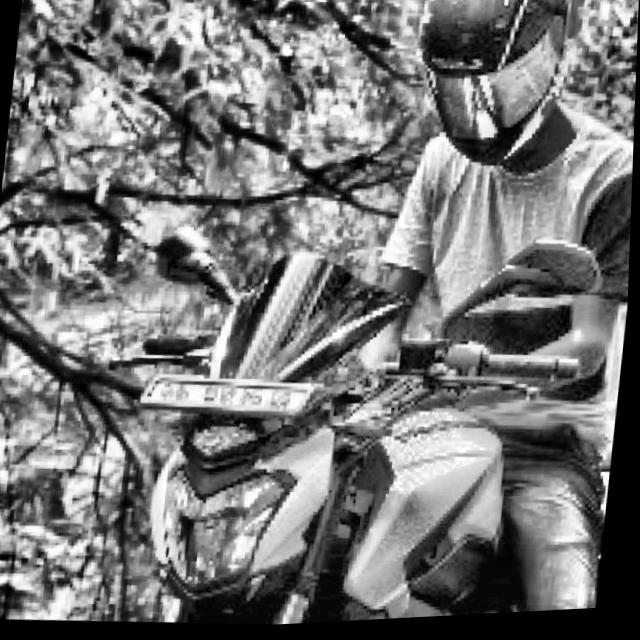motorcycle: (94, 190, 634, 635)
